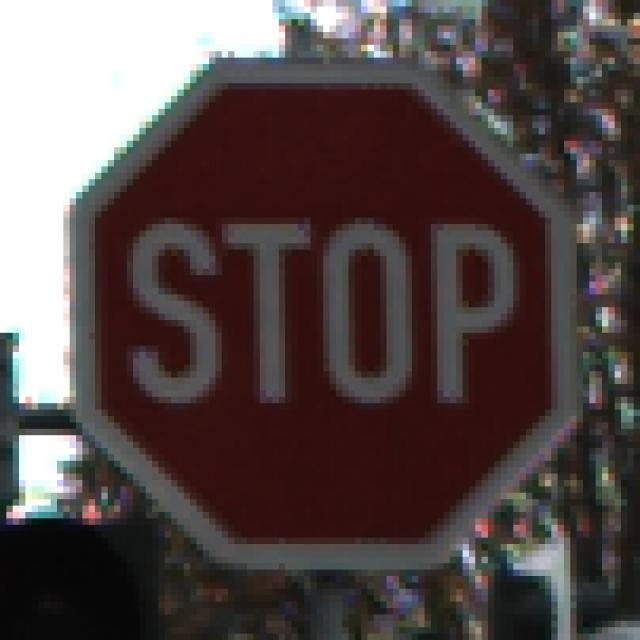STOP: (52, 53, 584, 584)
